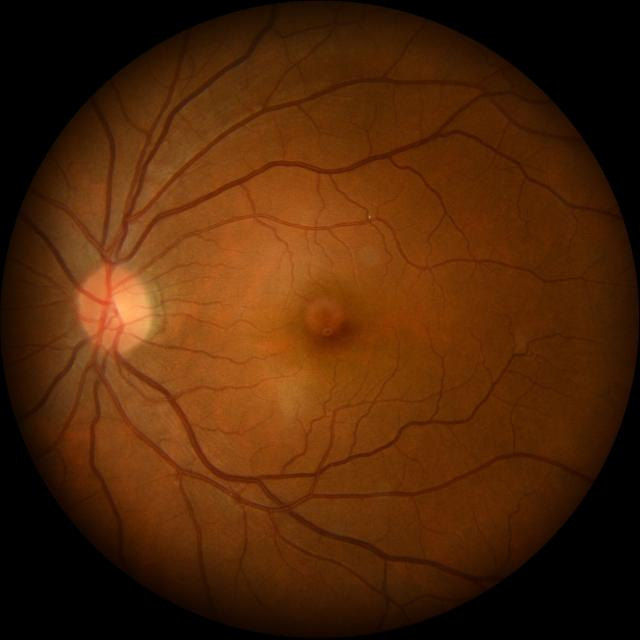OC: (104, 294, 130, 322)
OD: (77, 263, 152, 353)
